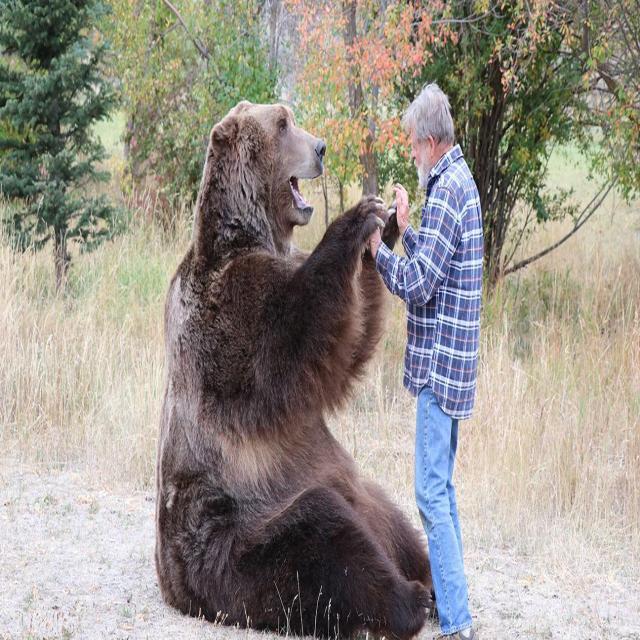Bear: (154, 102, 434, 640)
